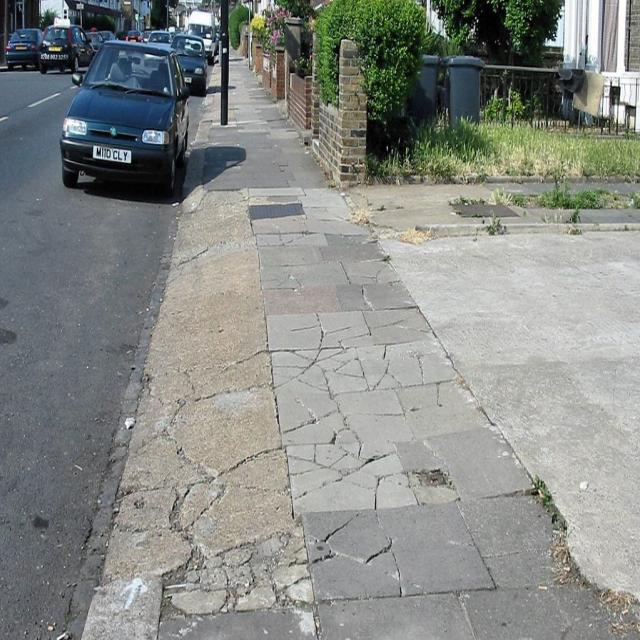Pothole: (39, 227, 392, 612)
